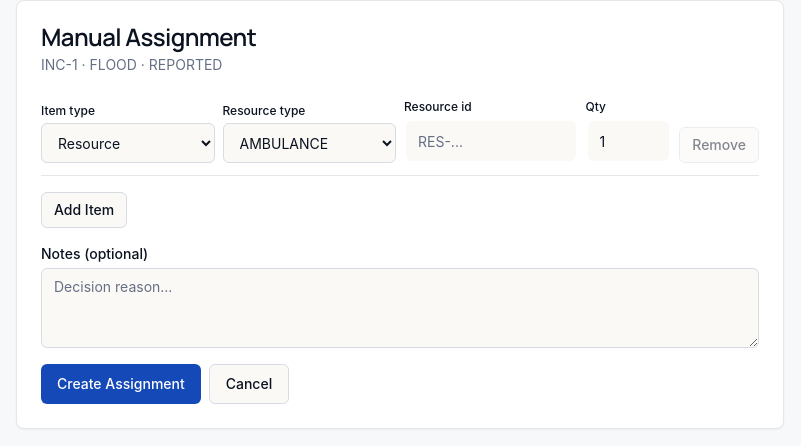
Scenario: AllocateReviewPage — item form variants › hides Resource type and fixes Qty to 1 for a Field Team item
The image size is (801, 446).
Check: the heading "Manual Assignment" is shown, box [41,20,256,53]
Select "Field Team" in the dropdown with test id "kind-0" at (128, 143), box [41,123,214,163]
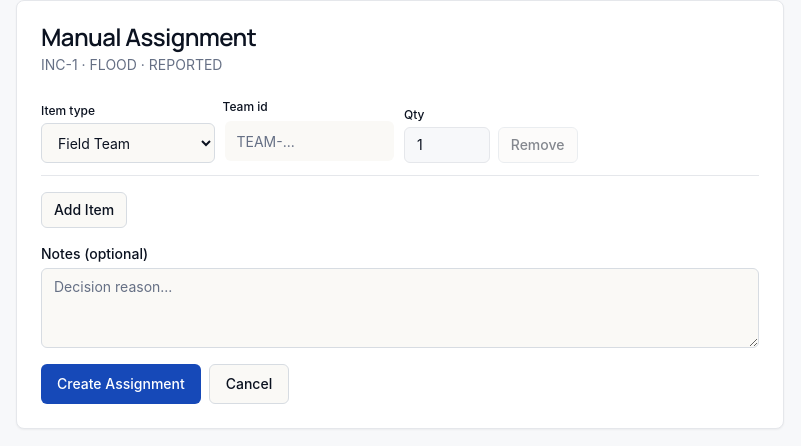
Check: the text "Resource type" is gone
Check: the text "Team id" is shown, box [222,99,268,114]
Check: the text with test id "team-qty-fixed" reads "1", box [417,136,423,153]
